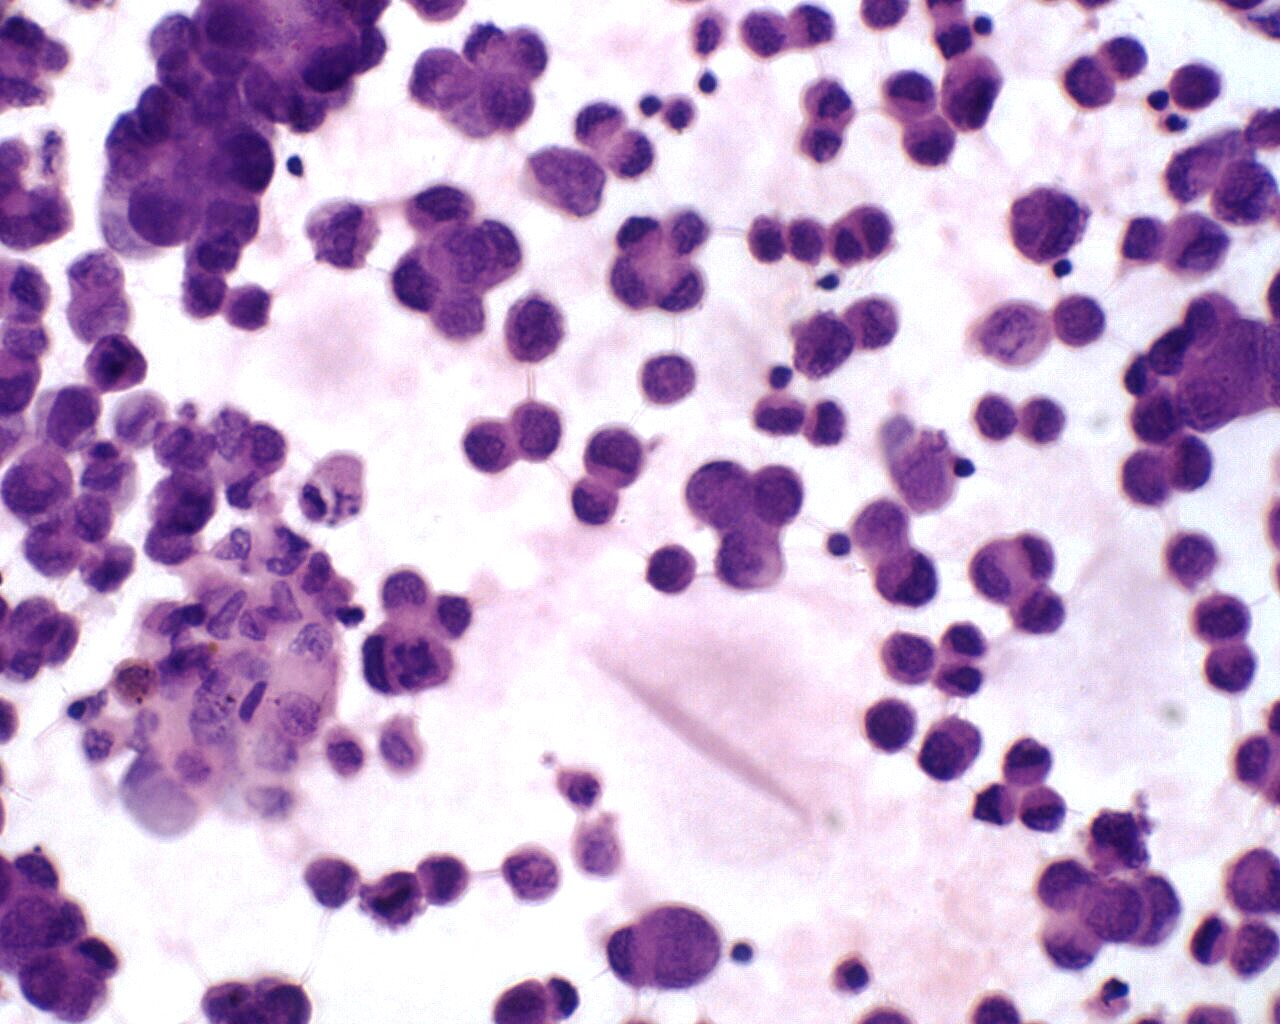ab: (604, 897, 722, 994), (1010, 182, 1091, 265), (1, 442, 77, 526), (1159, 208, 1229, 289), (938, 55, 1010, 134), (918, 712, 988, 784), (503, 293, 567, 368), (876, 540, 942, 611), (396, 178, 478, 234), (582, 422, 647, 489), (83, 335, 154, 396), (879, 624, 941, 688), (750, 459, 807, 528), (510, 398, 567, 465), (1191, 587, 1256, 646), (1062, 51, 1122, 113), (901, 111, 959, 174), (639, 345, 696, 411), (465, 414, 522, 476), (860, 695, 918, 754), (1054, 288, 1108, 352), (1202, 639, 1262, 695), (1168, 56, 1226, 113), (645, 540, 698, 600)
lymph: (822, 529, 860, 569), (761, 359, 798, 395), (635, 85, 668, 120)
